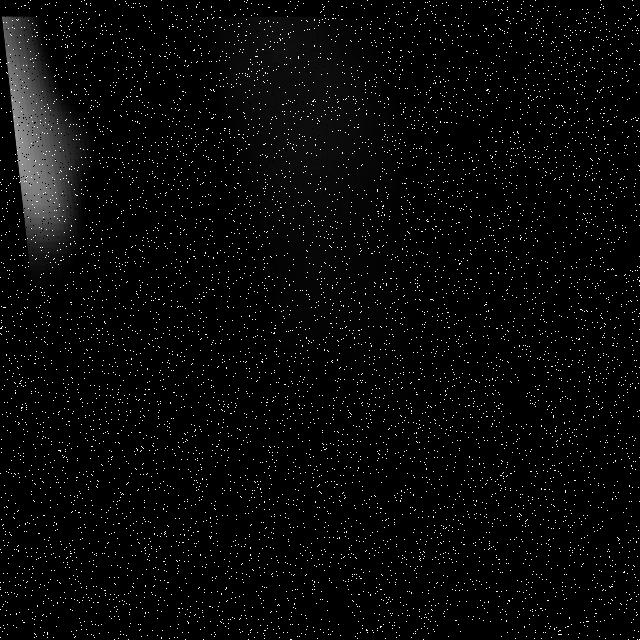person: (2, 13, 127, 277)
